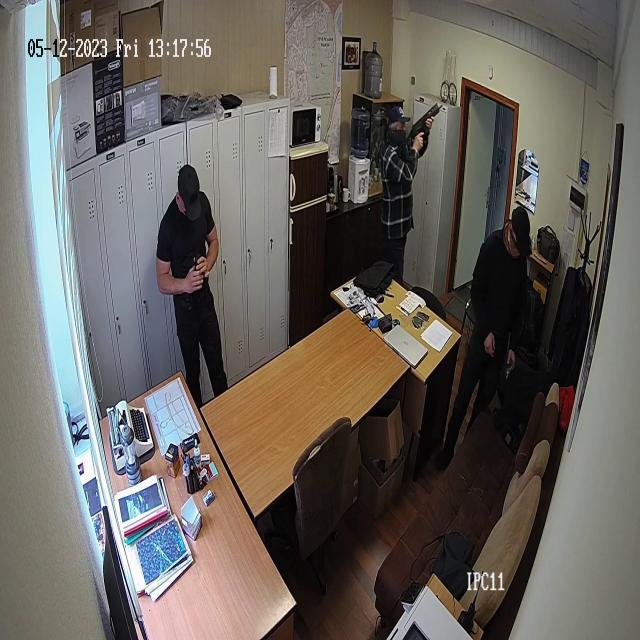pistol: (396, 102, 444, 158)
